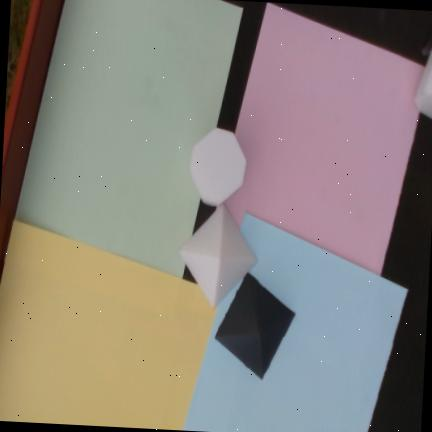Piramide: (214, 272, 296, 380), (178, 202, 258, 310), (191, 129, 246, 206)
Prisma_hexagonal: (413, 49, 432, 119)
